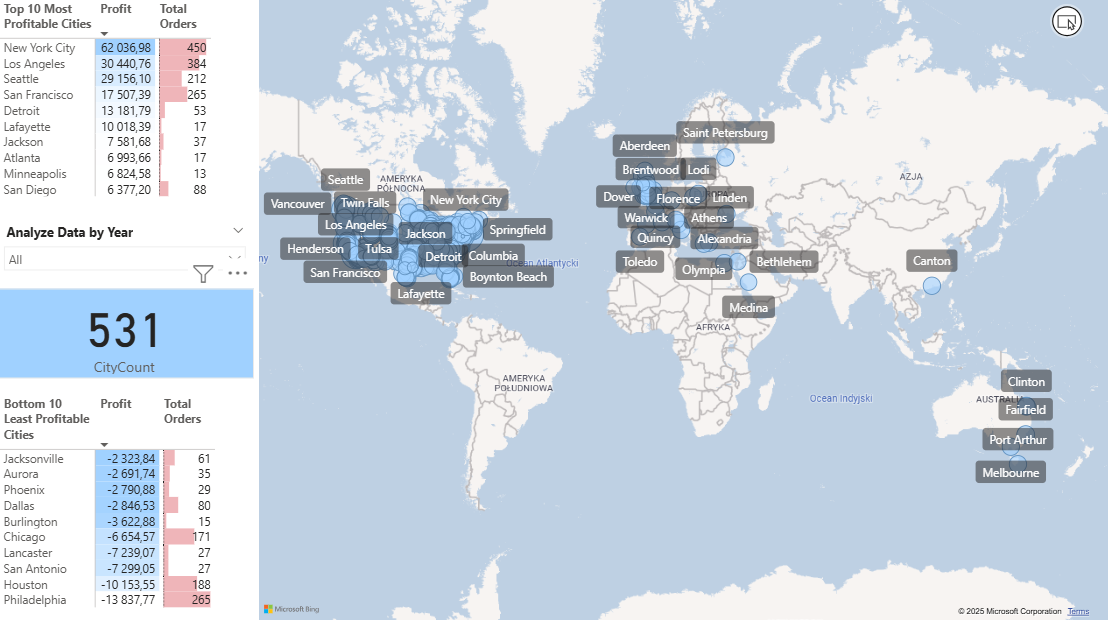

The page's visual inventory and layout, read from the dashboard file:
{"tool":"powerbi","page":{"name":"Map","canvas":[1280,720],"ordinal":1},"visuals":[{"type":"map","fields":{"Size":["Measures Table.Total Profit"],"Category":["Sample - Superstore.City"]},"box":[296.8,0,983.2,720],"z":0},{"type":"pivotTable","fields":{"Rows":["Sample - Superstore.City"],"Values":["Measures Table.Total Profit","Measures Table.Order Count"]},"box":[0,0,296.4,242.9],"z":1000},{"type":"pivotTable","fields":{"Rows":["Sample - Superstore.City"],"Values":["Measures Table.Total Profit","Measures Table.Order Count"]},"box":[0,451.2,295.9,269],"z":2000},{"type":"slicer","fields":{"Values":["Calendar.Year"]},"box":[0,253.9,296.4,63.1],"z":3000},{"type":"card","fields":{"Values":["Measures Table.CityCount"]},"box":[0,333.8,295.9,102.7],"z":4000}]}

Visuals, with their boxes in screenshot pixels (x1, y1, x2, y2), scaled from the page's 1280x720 canvas onto the 1108x620 screenshot:
map - Measures Table.Total Profit x Sample - Superstore.City: {"x1": 257, "y1": 0, "x2": 1107, "y2": 619}
pivotTable - Sample - Superstore.City x Measures Table.Total Profit: {"x1": 0, "y1": 0, "x2": 257, "y2": 209}
pivotTable - Sample - Superstore.City x Measures Table.Total Profit: {"x1": 0, "y1": 389, "x2": 256, "y2": 619}
slicer - Calendar.Year: {"x1": 0, "y1": 219, "x2": 257, "y2": 273}
card - Measures Table.CityCount: {"x1": 0, "y1": 287, "x2": 256, "y2": 376}
